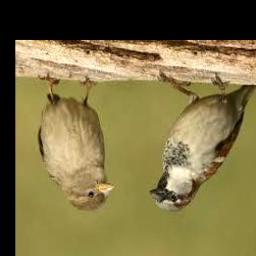Sparrow: (150, 74, 256, 212), (38, 72, 116, 211)
